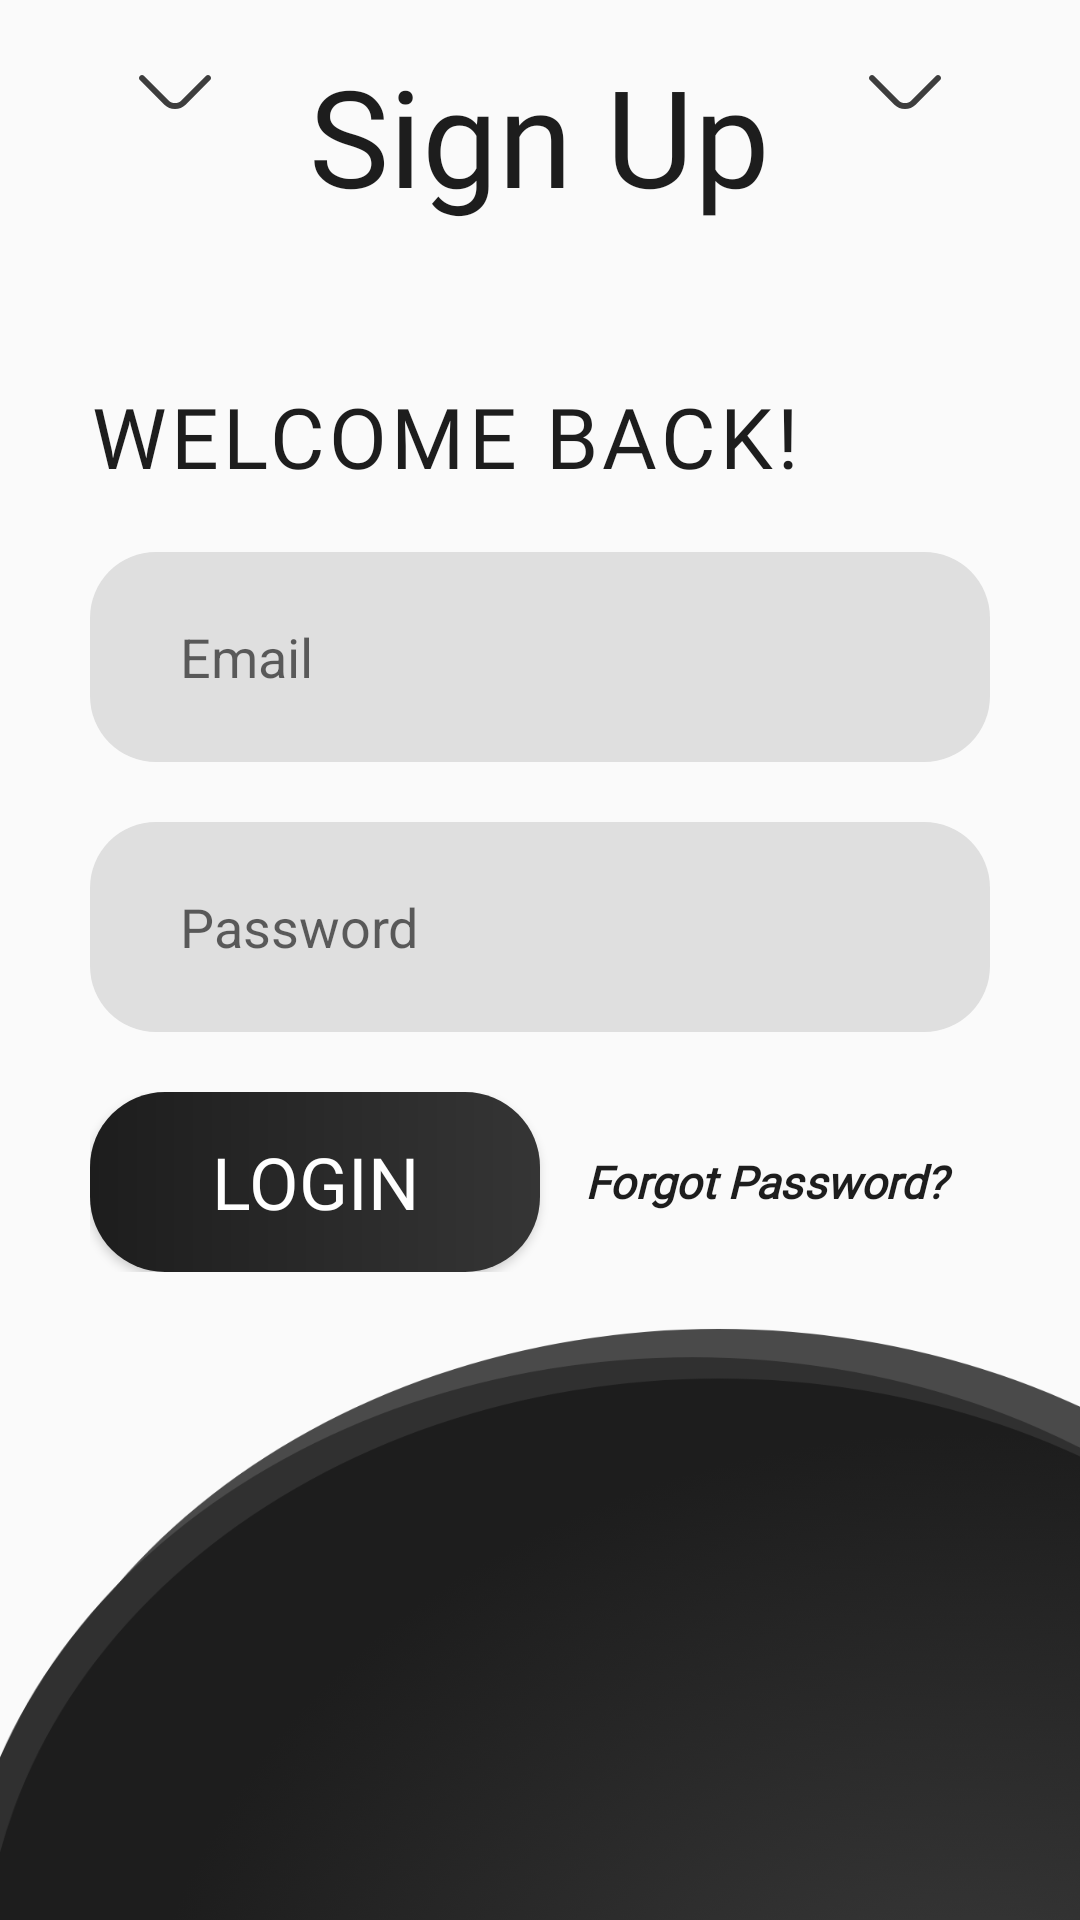

Icon bounding boxes for this 1080 × 1920 phone screenshot, format BBox(x1, y1, x2, y2):
downbutton: BBox(139, 75, 211, 109), BBox(869, 75, 941, 109)
